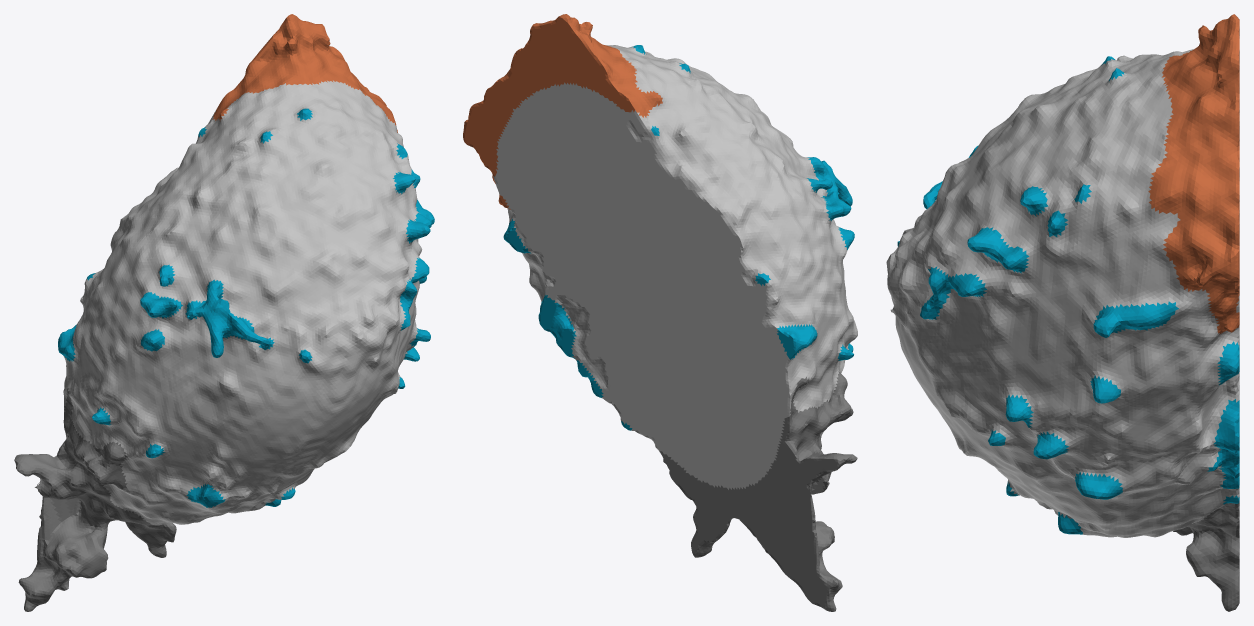
3 views of the same model, side by side, from view 1: azimuth 30°, elevation 25°; view 2: azimuth 150°, elevation 25°; view 3: azimuth 270°, elevation 25° (orthographic). The views are drawn at different scales.
Size of the model in its own units: 118 by 155 by 70.17.
